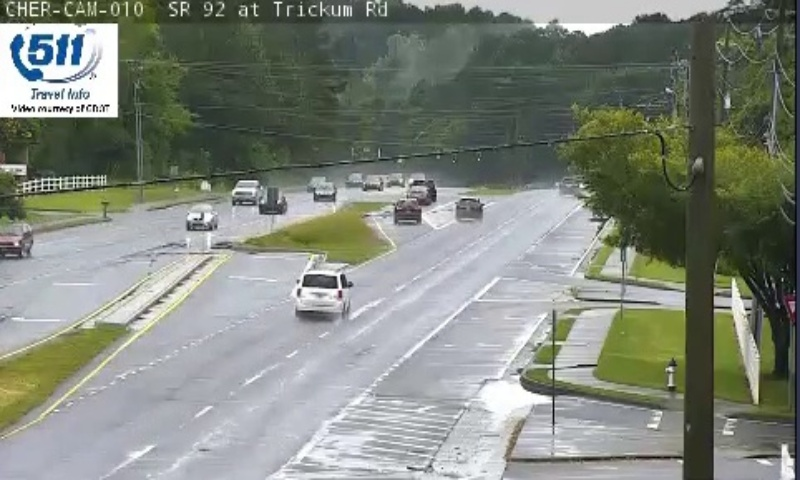car: (295, 270, 350, 312), (456, 198, 484, 221), (393, 198, 419, 221)
